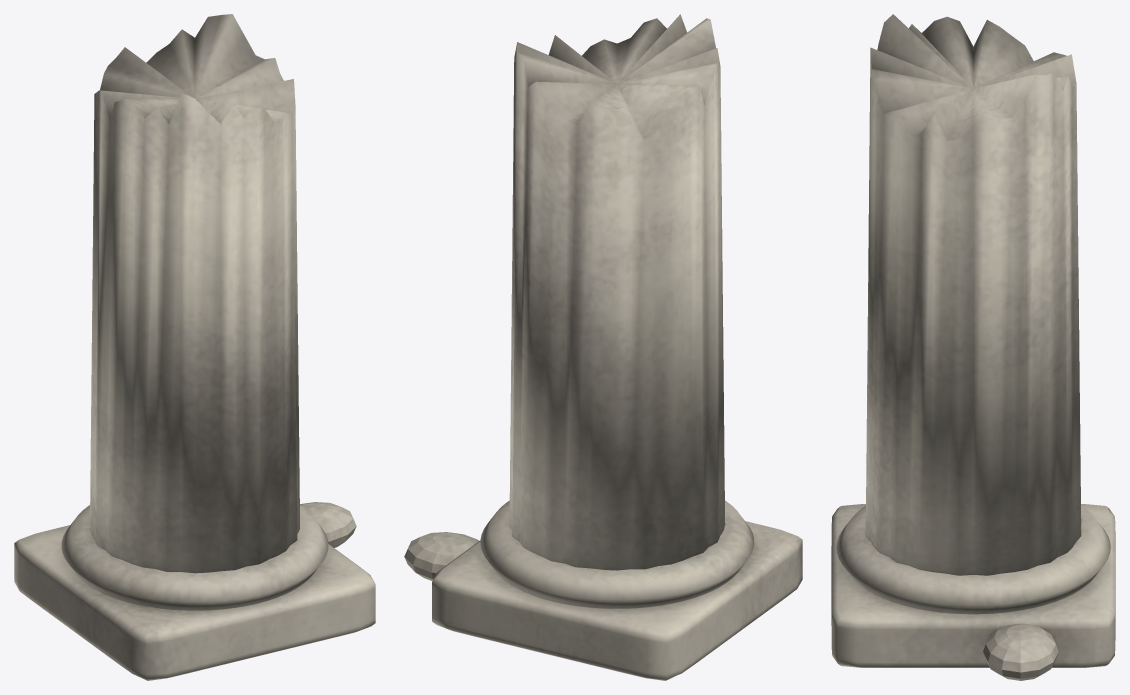
File: broken-ruin.glb
The picture shows the model from 3 angles, left to right: view 1: azimuth 30°, elevation 25°; view 2: azimuth 150°, elevation 25°; view 3: azimuth 270°, elevation 25°; orthographic projection. The views are drawn at different scales.
Parts seen in each view (by area): view 1: marble_column; view 2: marble_column; view 3: marble_column.
Boxes of the visible parts, left/top/right/bottom form: marble_column: left=14, top=14, right=375, bottom=680; marble_column: left=404, top=14, right=802, bottom=680; marble_column: left=831, top=14, right=1115, bottom=680.
Size of the model in its own units: 0.754 by 1.33 by 0.6.
1 material, 1 textured.
